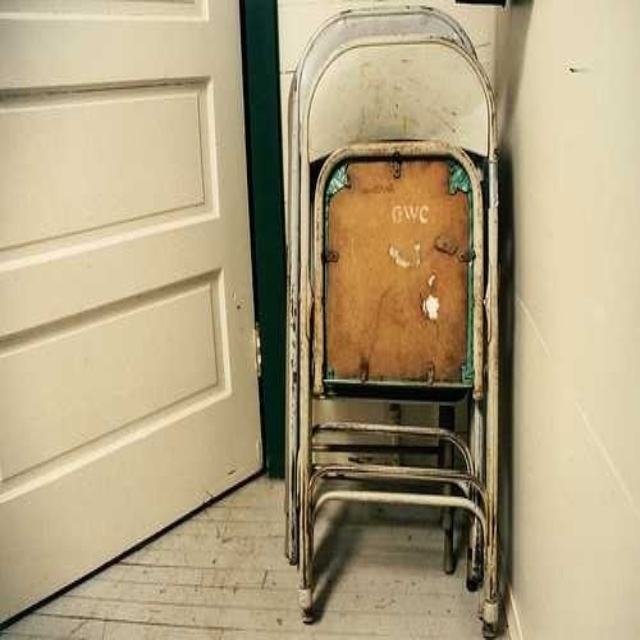obstacle: (282, 7, 499, 633)
